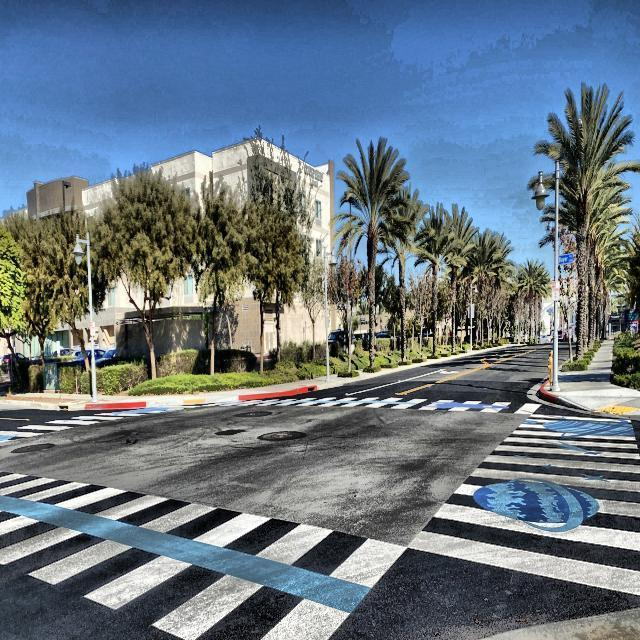crosswalk: (0, 467, 405, 640), (413, 410, 640, 595), (0, 403, 192, 448), (229, 394, 538, 417)
